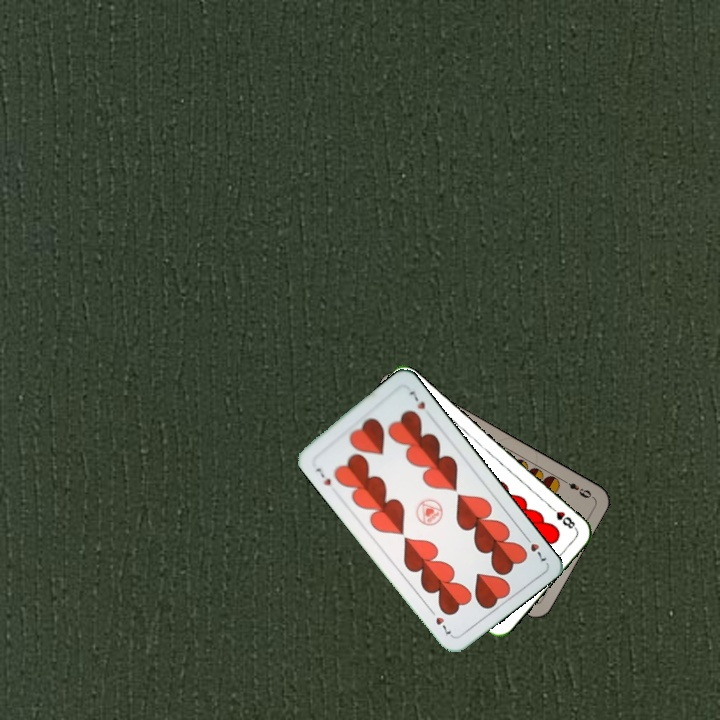E9: (558, 475, 594, 501)
H7: (520, 530, 549, 564), (312, 464, 334, 488)
H8: (545, 502, 579, 532)
